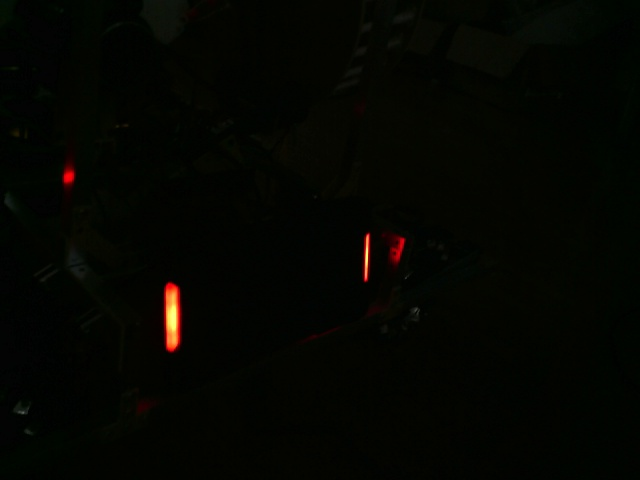lamp: (159, 278, 184, 355), (360, 230, 373, 287)
